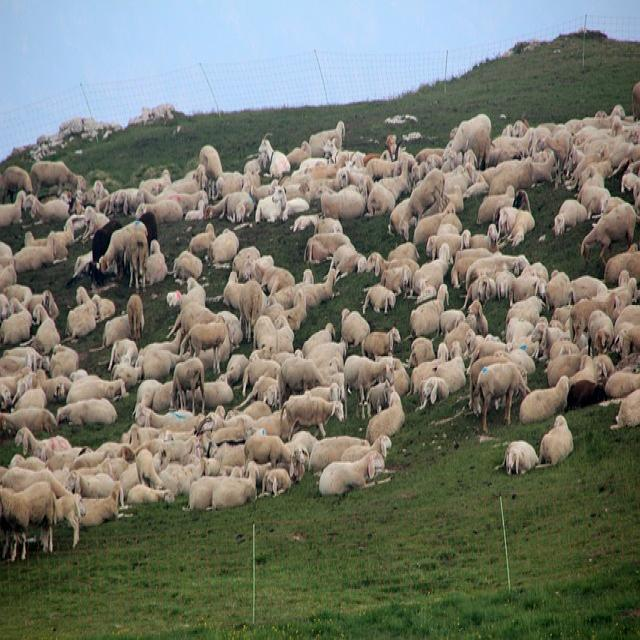goat: (0, 482, 54, 562), (320, 436, 391, 496), (285, 386, 344, 428), (190, 476, 256, 509), (252, 179, 286, 222)
